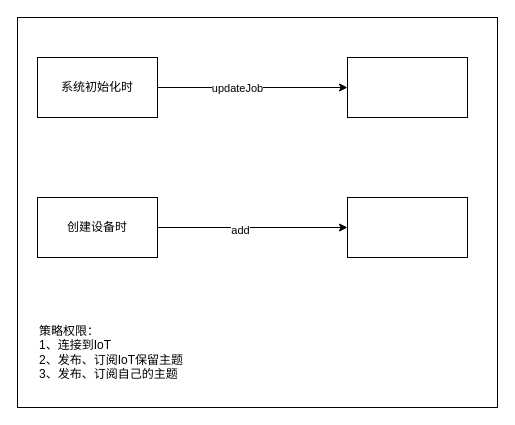
The diagram is 515 pixels wide and 425 high, and some of its shapes have lost their labels. The shapes that lost their labels are listed below. From the top down, each one's box as (x1, y1, x2, y2) in pixels, then its label:
(346, 56, 468, 118): 1、创建静态组 2、创建策略 3、把策略绑定到组
(346, 196, 468, 258): 把设备添加到组
